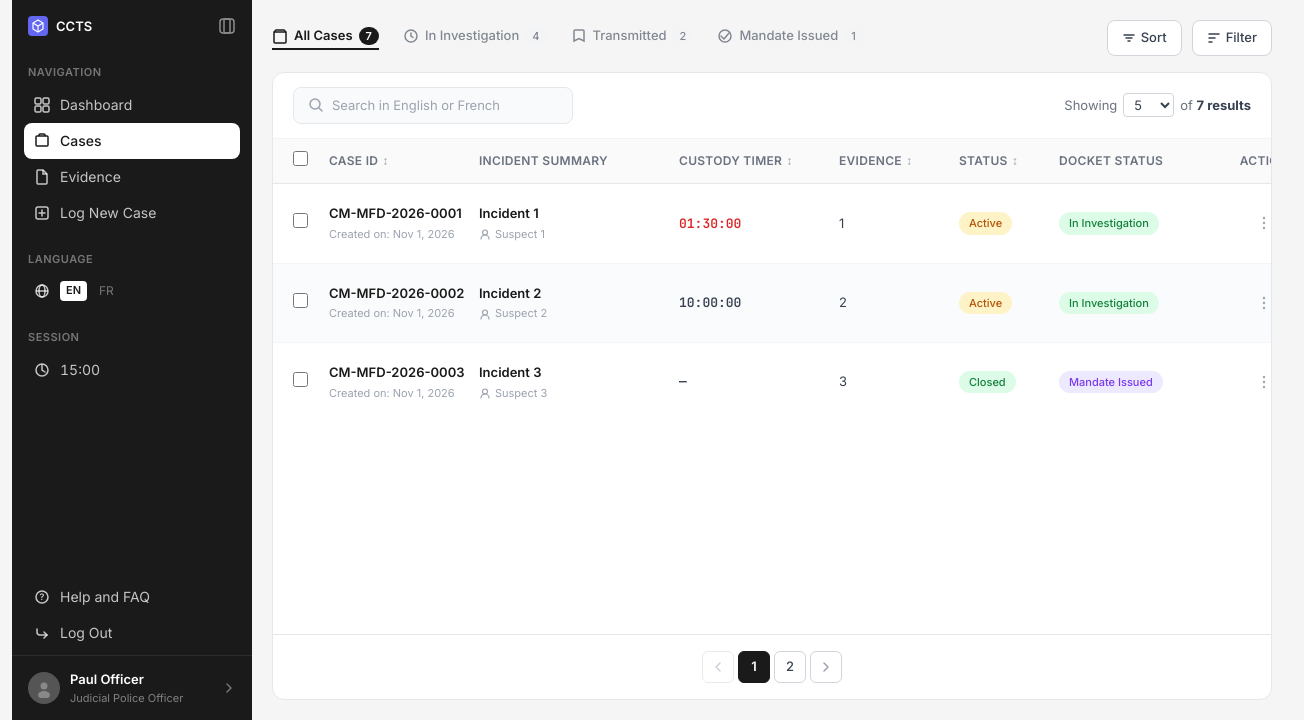
Scenario: Cases page › selects rows, one or all
Expected: the text "Incident 1" is shown, left=479, top=205, right=539, bottom=221
Click the checkbox named "Select case CM-MFD-2026-0002": (300, 300) left=293, top=292, right=308, bottom=308
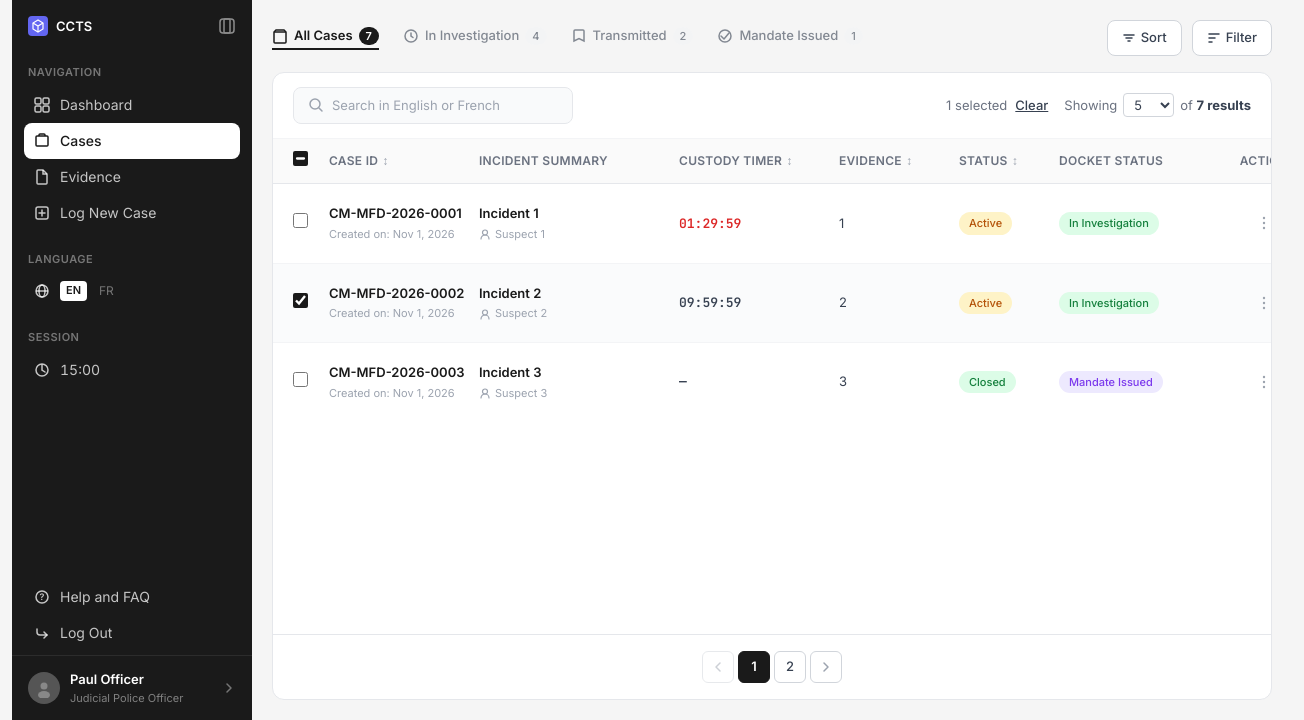
Result: the text "1 selected" is shown at left=946, top=96, right=1007, bottom=112
Click the checkbox named "Select all cases on this page": (300, 158) left=293, top=151, right=308, bottom=166
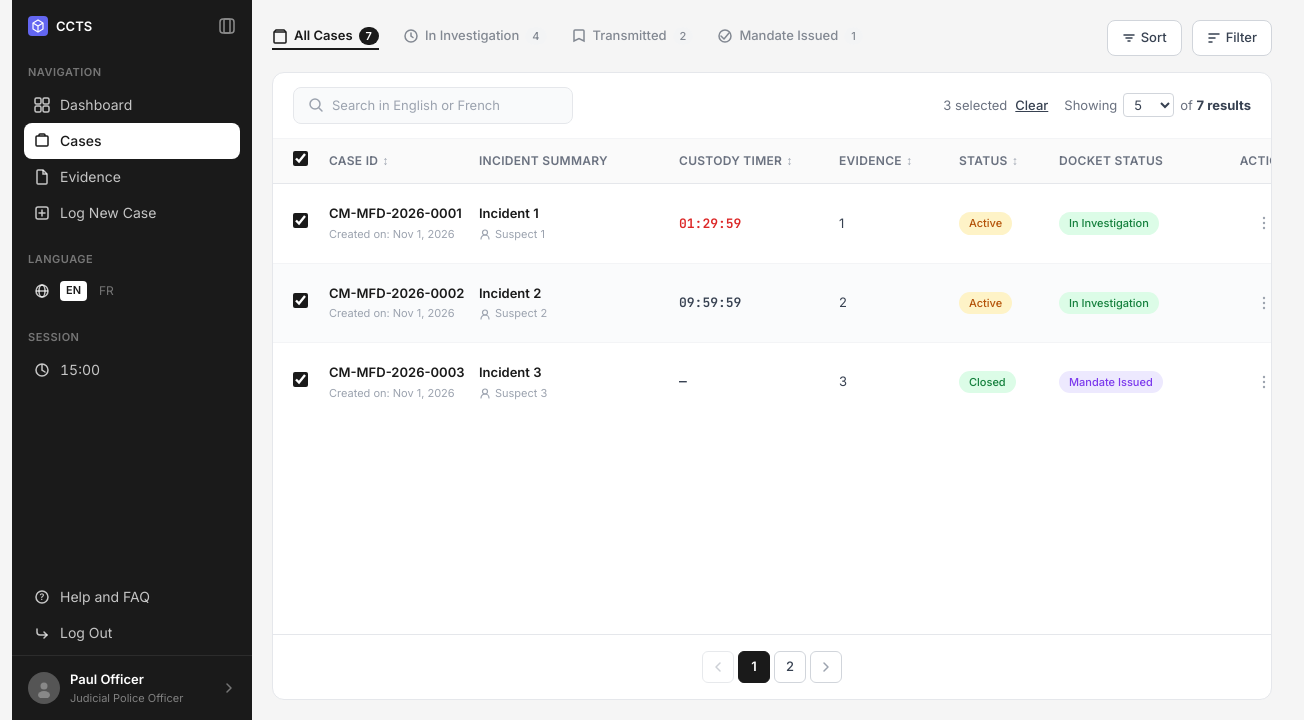
Result: the text "3 selected" is shown at left=943, top=96, right=1007, bottom=112
Click the button "Clear": (1032, 105) left=1015, top=96, right=1048, bottom=115
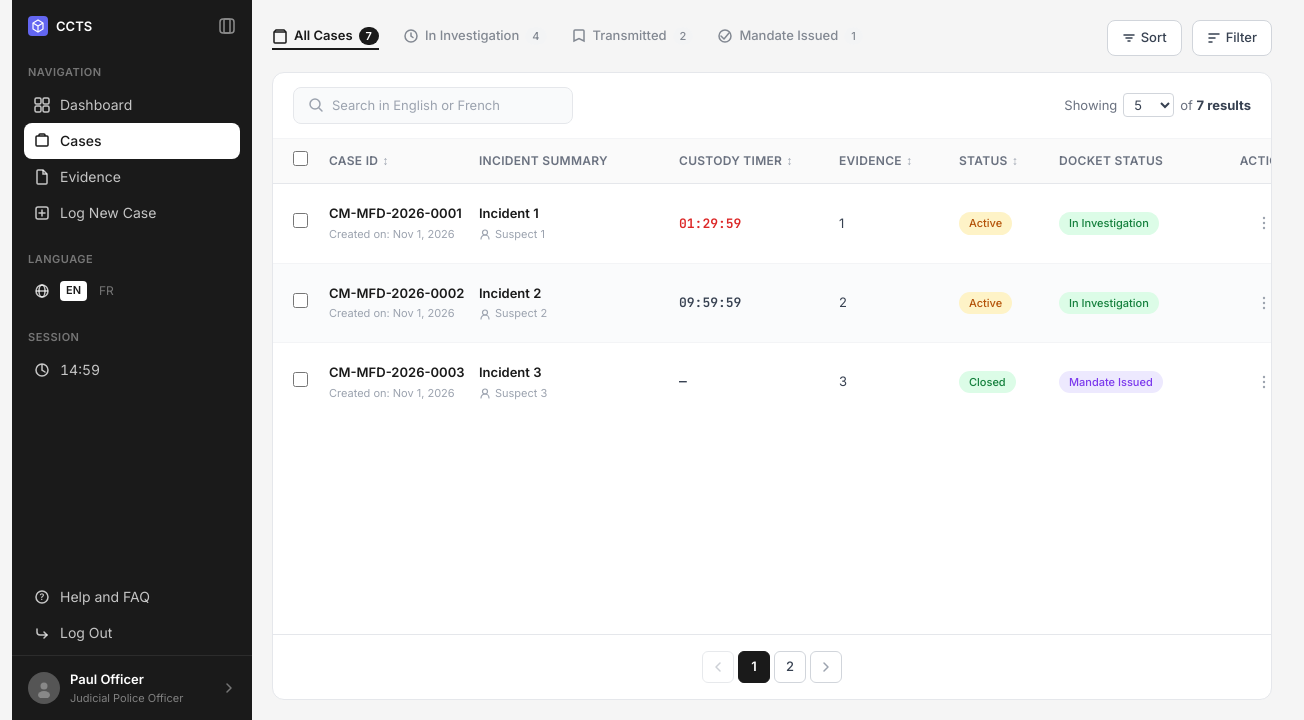
Result: the text "selected" is gone
